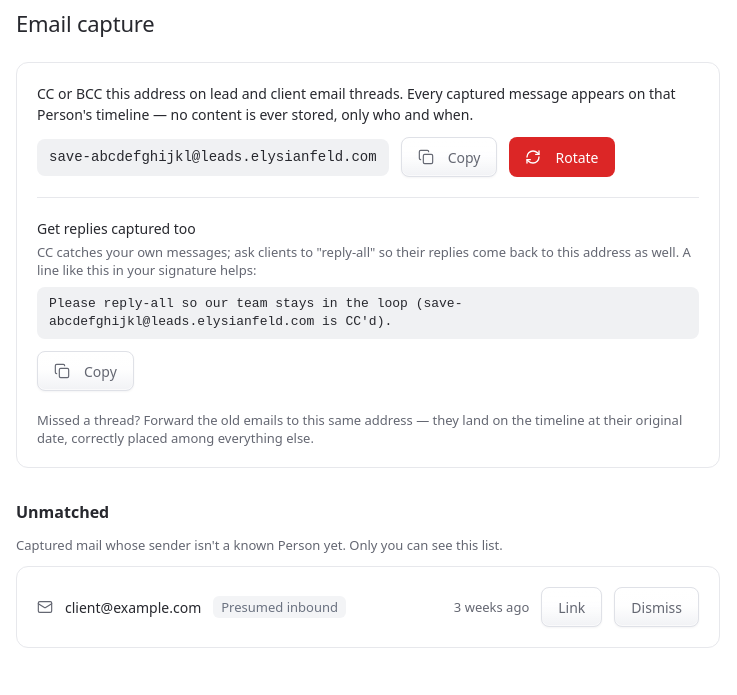
EmailCaptureView — unmatched held queue › a failed dismiss surfaces a row-scoped error
Step 1. Click the button "Dismiss" → {"x": 657, "y": 607}, box x1=614 y1=587 x2=699 y2=627
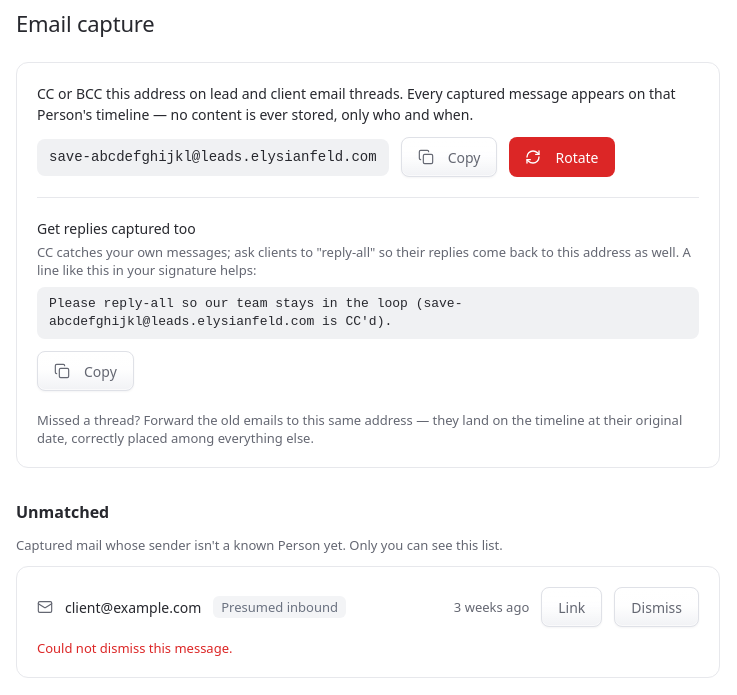
Result: the text "Could not dismiss this message." is shown at x1=37 y1=639 x2=232 y2=657
